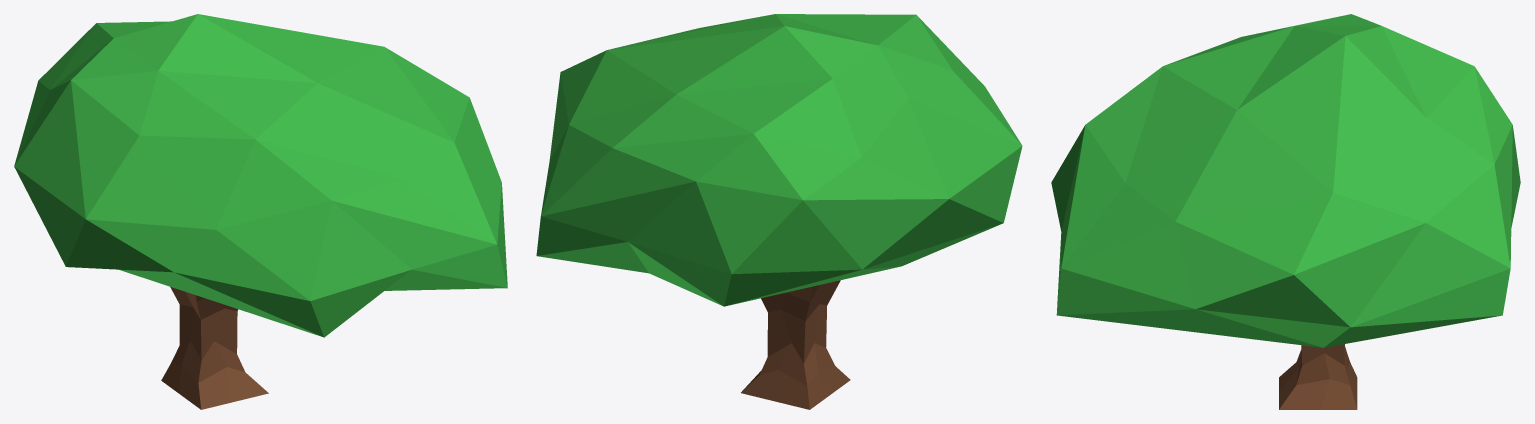
The model's file is Tree_29_Green.fbx.
The picture shows the model from 3 angles, left to right: view 1: azimuth 30°, elevation 25°; view 2: azimuth 150°, elevation 25°; view 3: azimuth 270°, elevation 25°; orthographic projection. The views are drawn at different scales.
Visible parts, largest first — view 1: Tree_29_Green_Part_1, Tree_29_Green_Part_2; view 2: Tree_29_Green_Part_1, Tree_29_Green_Part_2; view 3: Tree_29_Green_Part_1, Tree_29_Green_Part_2.
Part boxes in pixels (x1,y1,x2,y2): Tree_29_Green_Part_1: (14, 14, 507, 337); Tree_29_Green_Part_2: (161, 287, 268, 409); Tree_29_Green_Part_1: (536, 14, 1022, 306); Tree_29_Green_Part_2: (741, 280, 850, 409); Tree_29_Green_Part_1: (1051, 14, 1520, 347); Tree_29_Green_Part_2: (1279, 344, 1357, 409).
Size of the model in its own units: 821 by 681 by 813.
